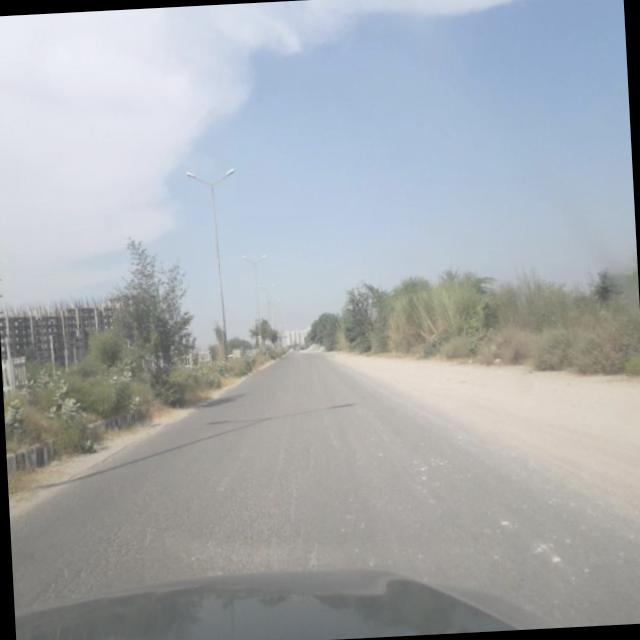crack: (39, 406, 372, 593)
